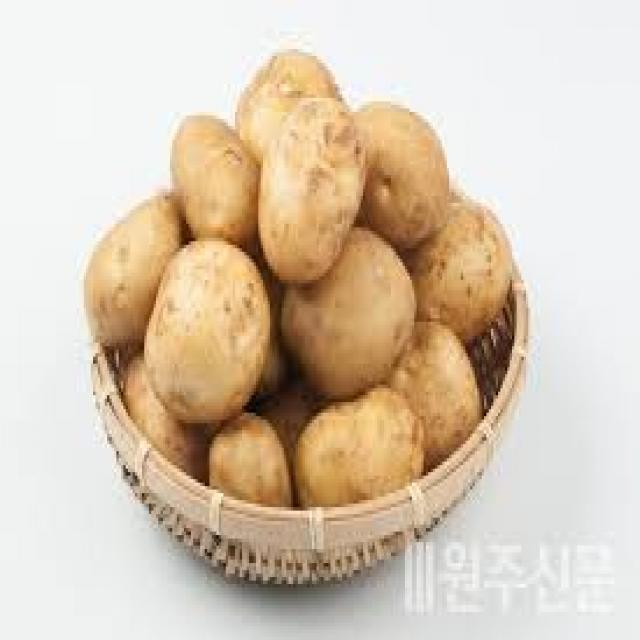Potato: (144, 238, 272, 425), (258, 98, 368, 283)
